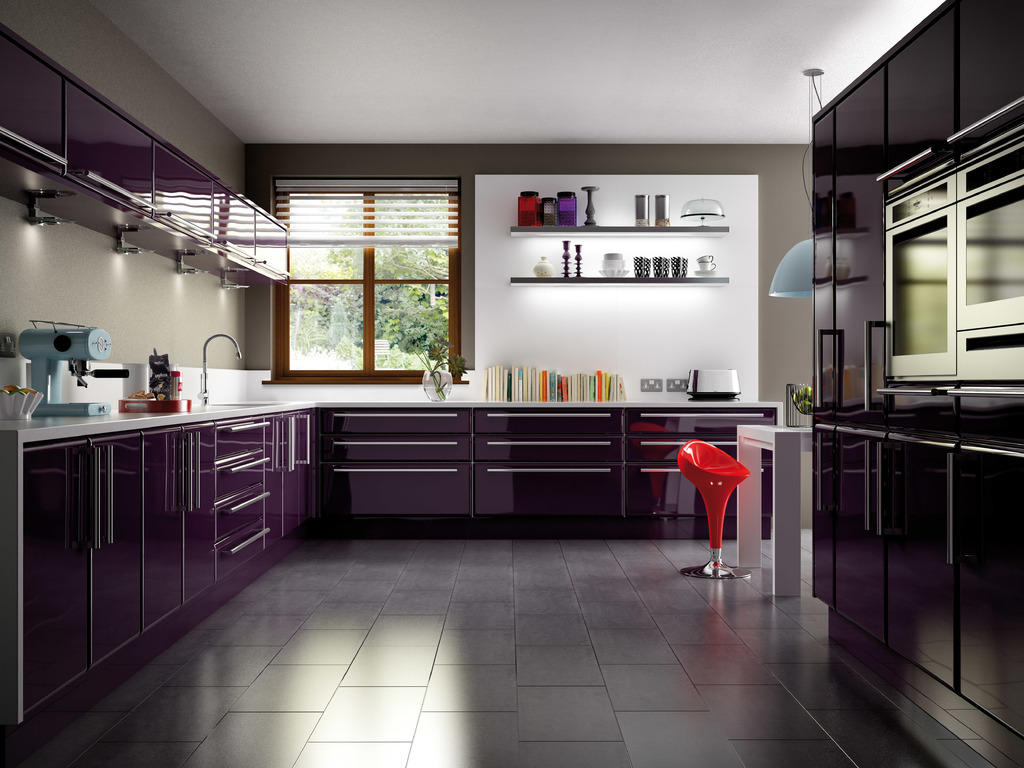cabinet door: (952, 438, 1024, 687), (833, 102, 886, 409), (28, 442, 90, 655), (886, 457, 950, 655), (834, 435, 884, 617), (95, 438, 142, 628), (472, 464, 626, 515), (958, 13, 1024, 130), (807, 126, 833, 415), (146, 436, 190, 603), (886, 55, 950, 166), (326, 461, 470, 510), (318, 402, 473, 437), (475, 431, 622, 465), (472, 402, 623, 435), (326, 436, 471, 465), (193, 431, 217, 583), (276, 413, 306, 523), (620, 407, 756, 431), (814, 426, 834, 580), (301, 403, 327, 521), (621, 455, 681, 501), (217, 530, 274, 566), (215, 413, 271, 449), (221, 455, 269, 496), (220, 495, 270, 528), (625, 434, 684, 458)
handle: (950, 102, 1018, 143), (862, 317, 891, 409), (942, 452, 966, 563), (638, 406, 769, 425), (876, 145, 931, 189), (484, 432, 614, 450), (809, 323, 836, 406), (86, 445, 103, 551), (857, 442, 878, 525), (874, 443, 893, 532), (332, 409, 460, 422), (332, 464, 457, 477), (486, 409, 614, 421), (105, 442, 119, 545), (484, 467, 614, 478), (639, 437, 738, 451), (226, 523, 275, 548), (184, 430, 198, 514), (813, 438, 830, 507), (331, 438, 460, 447), (227, 489, 274, 510), (228, 418, 274, 439), (195, 429, 205, 519), (286, 416, 300, 477), (301, 414, 315, 470), (639, 464, 680, 480), (227, 458, 273, 471)
